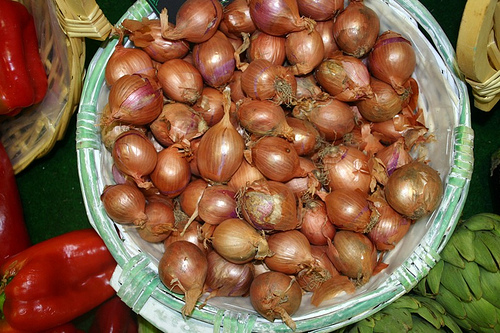onion: (154, 237, 212, 321), (195, 84, 243, 184), (387, 158, 444, 221), (323, 228, 380, 280), (250, 272, 301, 320)
